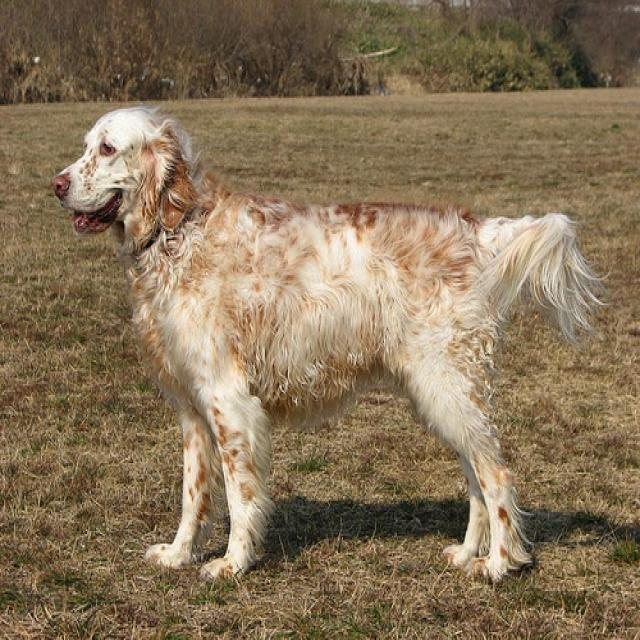dog-english_setter: (42, 88, 594, 588)
